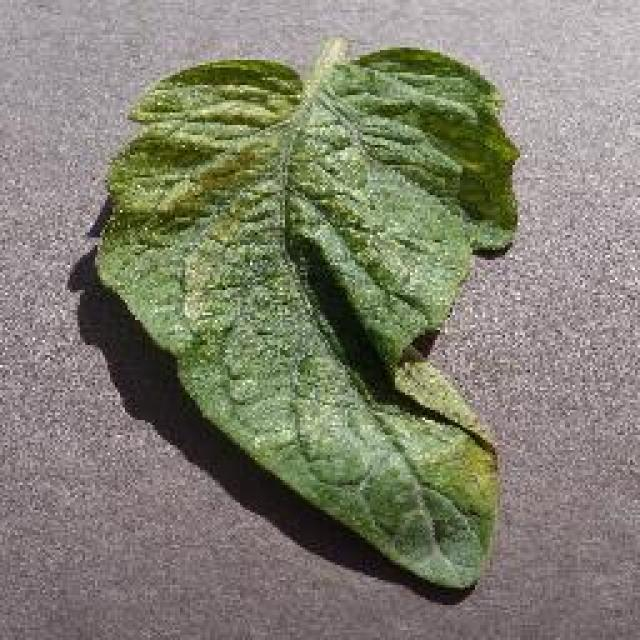Tomato___Spider_mites Two-spotted_spider_mite: (95, 40, 515, 585)
